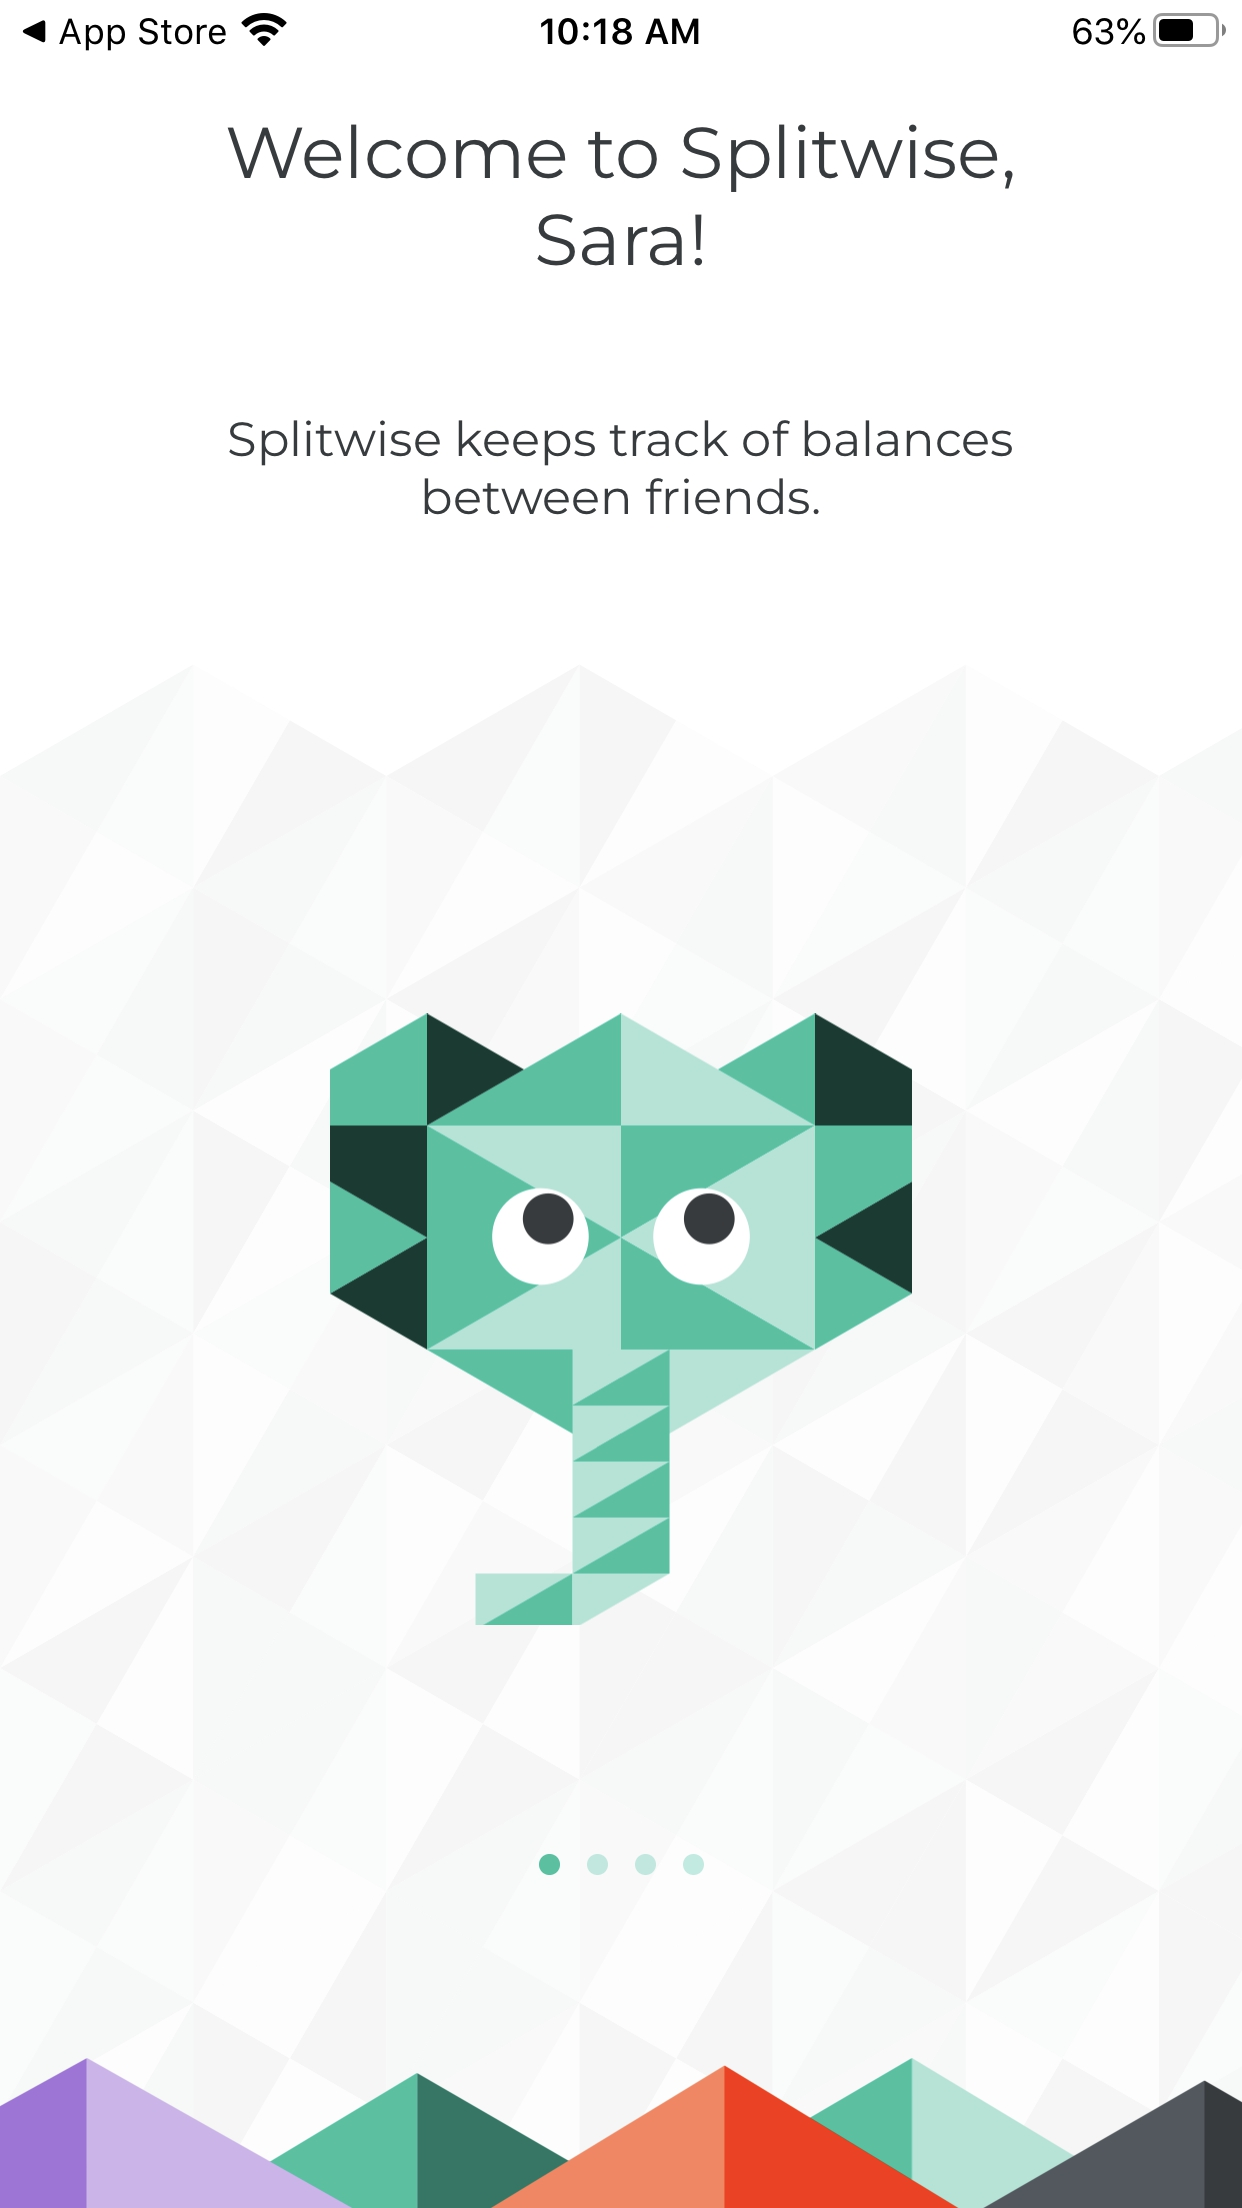Image: (2, 666, 1240, 2208), (331, 1013, 911, 1626)
PageIndicator: (538, 1855, 704, 1876)
Text: (227, 124, 1013, 265), (229, 420, 1011, 516)
UpperTaskBar: (2, 2, 1242, 52)
